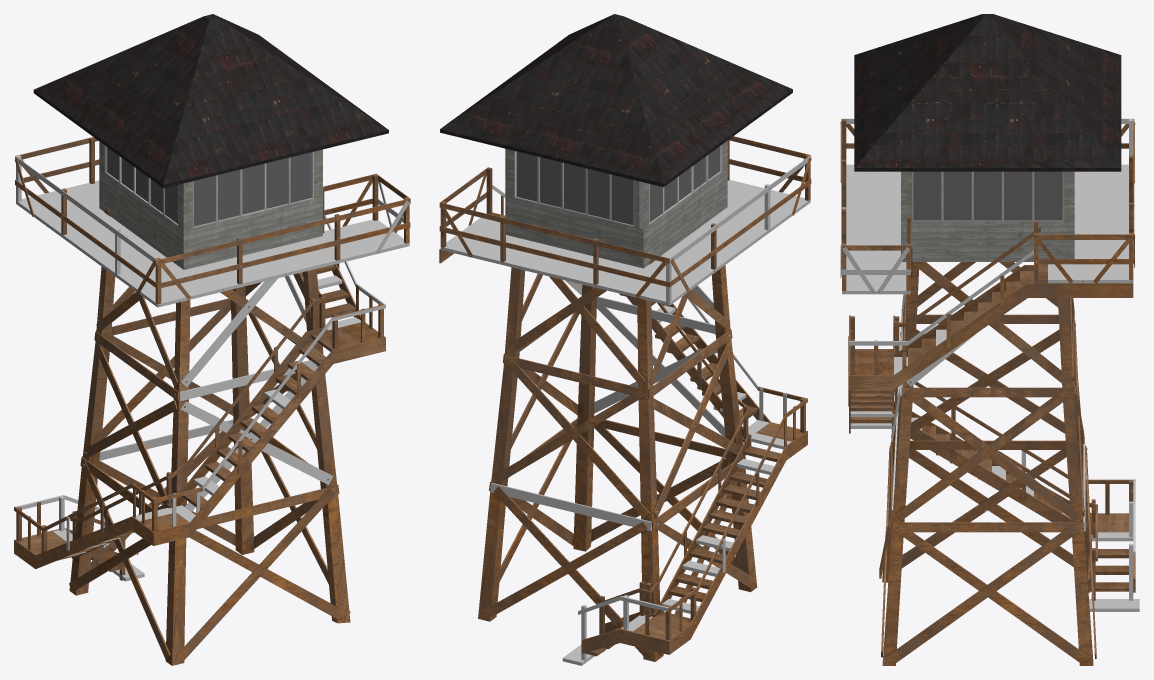
Rendered from WatchTower.fbx.
3 views of the same model, side by side, from view 1: azimuth 30°, elevation 25°; view 2: azimuth 150°, elevation 25°; view 3: azimuth 270°, elevation 25° (orthographic). The views are drawn at different scales.
Visible parts, largest first — view 1: tower_houseRoof; view 2: tower_houseRoof; view 3: tower_houseRoof.
Part boxes in pixels (left/top/right/bottom): tower_houseRoof: left=14, top=14, right=410, bottom=665; tower_houseRoof: left=439, top=14, right=811, bottom=665; tower_houseRoof: left=840, top=14, right=1139, bottom=665.
Bounding box in the file's own units: 2780 × 6158 × 2748.
